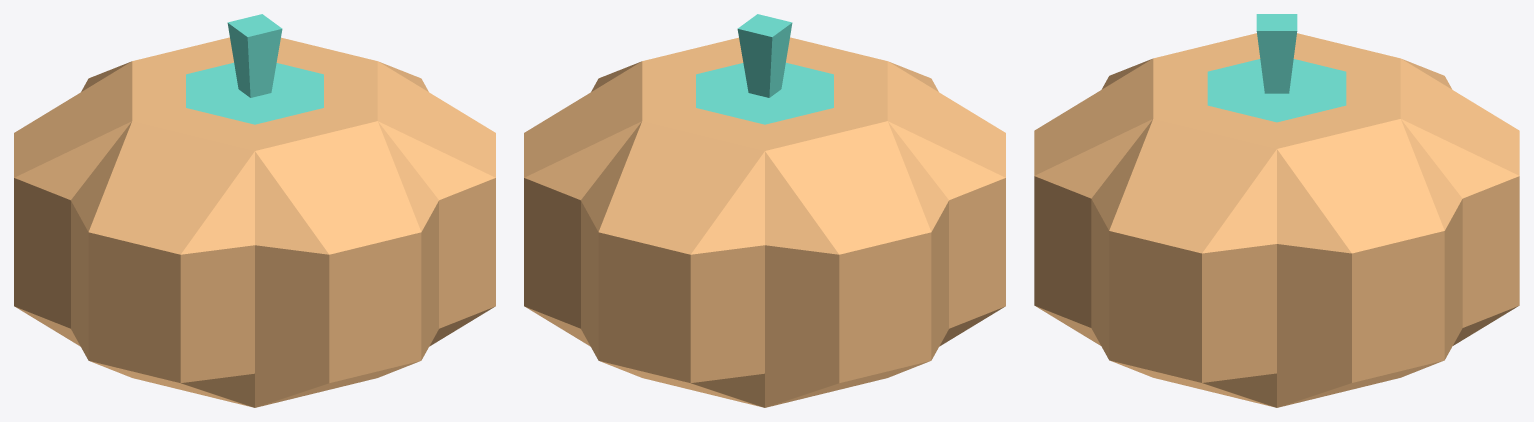
The model's file is crop_pumpkin.gltf.
3 views of the same model, side by side, from view 1: azimuth 30°, elevation 25°; view 2: azimuth 150°, elevation 25°; view 3: azimuth 270°, elevation 25° (orthographic).
Visible parts, largest first — view 1: crop_pumpkin; view 2: crop_pumpkin; view 3: crop_pumpkin.
Part boxes in pixels (left/top/right/bottom): crop_pumpkin: left=14, top=14, right=495, bottom=407; crop_pumpkin: left=524, top=14, right=1005, bottom=407; crop_pumpkin: left=1034, top=14, right=1519, bottom=407.
Bounding box in the file's own units: 0.4413 × 0.3338 × 0.4519.
